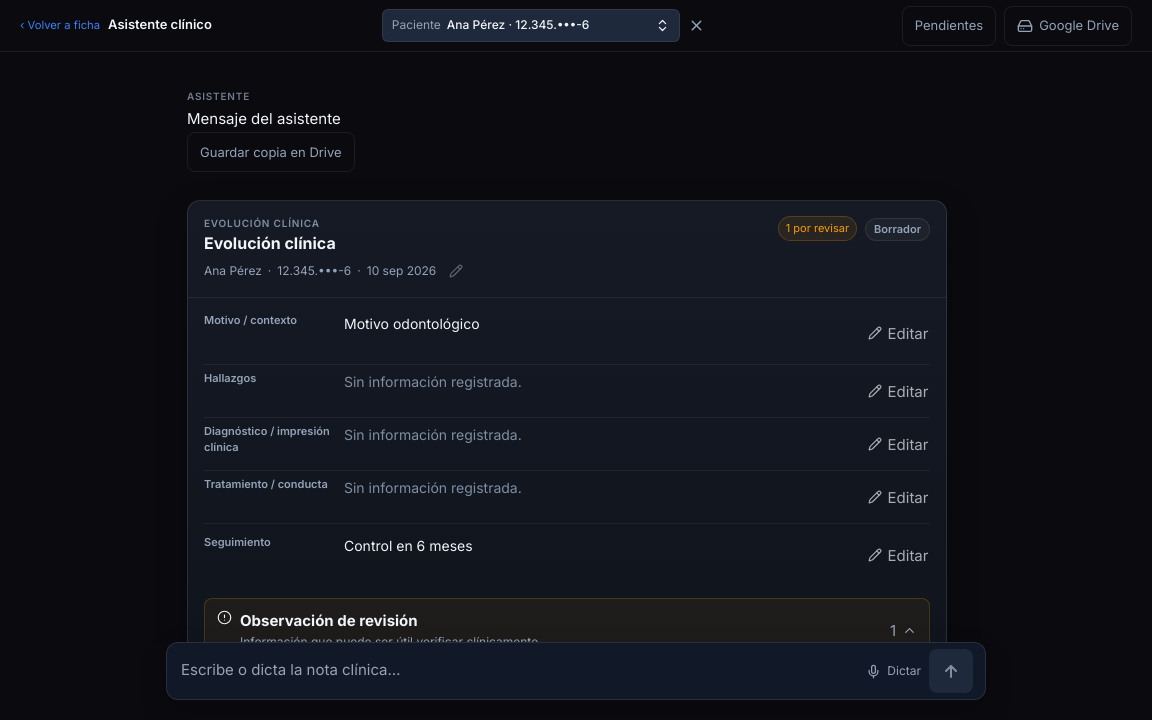
it: Clinical Assistant Drive transfer › requests browser-native unload confirmation only while the editor is dirty
The image size is (1152, 720).
Click the button with aria-label "Abrir Google Drive": (1068, 26) [1004,6,1132,46]
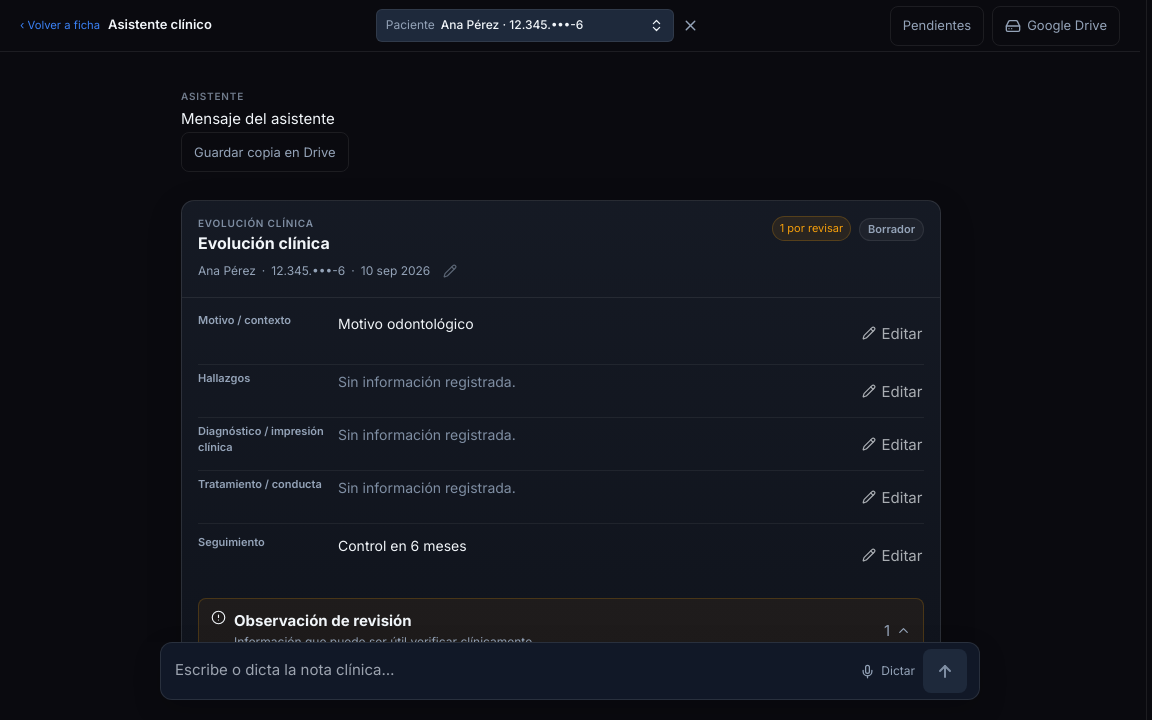
Click the button "Guardar copia en Drive": (265, 152) [181,132,349,172]
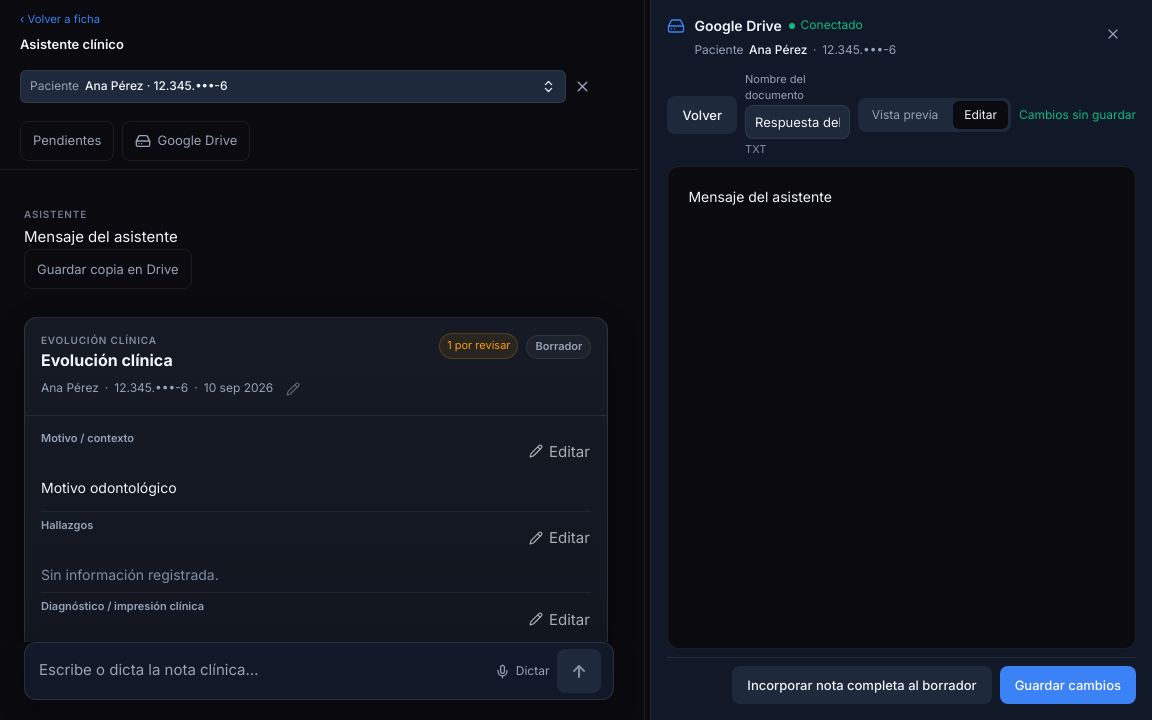
Click the button "Guardar cambios": (1068, 685) [1000,666,1136,704]
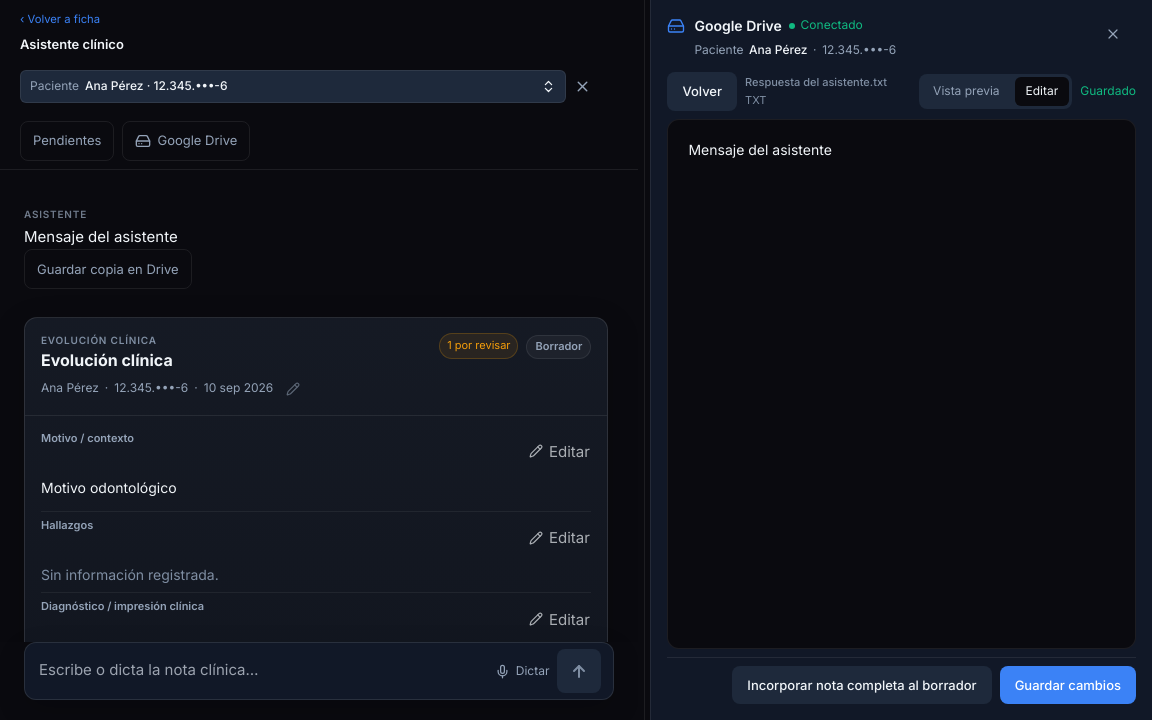
expect the text "Guardado" is shown: met, box [1080,83,1136,100]
